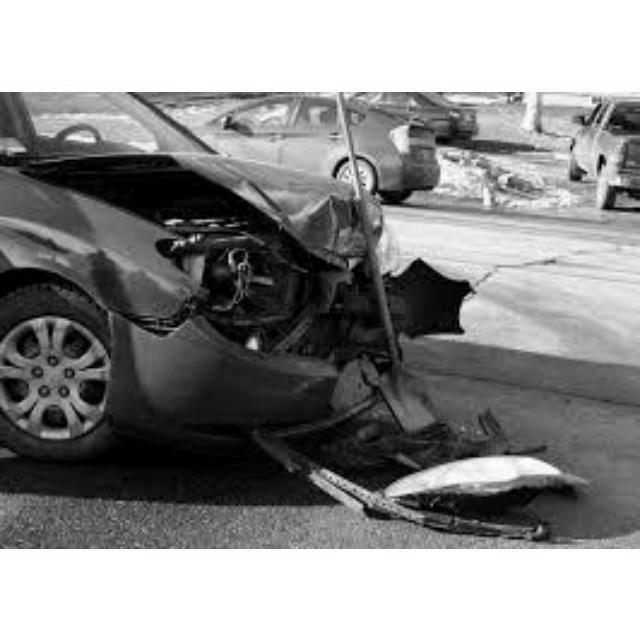bonnet-dent: (102, 135, 373, 248)
fender-dent: (44, 210, 205, 349)
